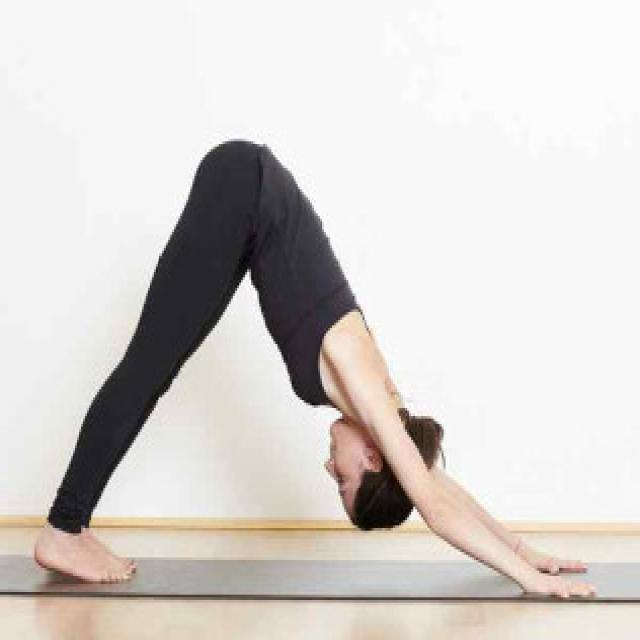yoga-pose downward: (30, 137, 602, 597)
